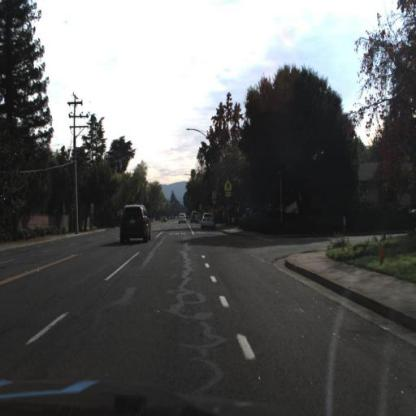car: (117, 200, 155, 249), (177, 210, 189, 228), (190, 210, 201, 227), (177, 213, 189, 227), (204, 215, 216, 229)
